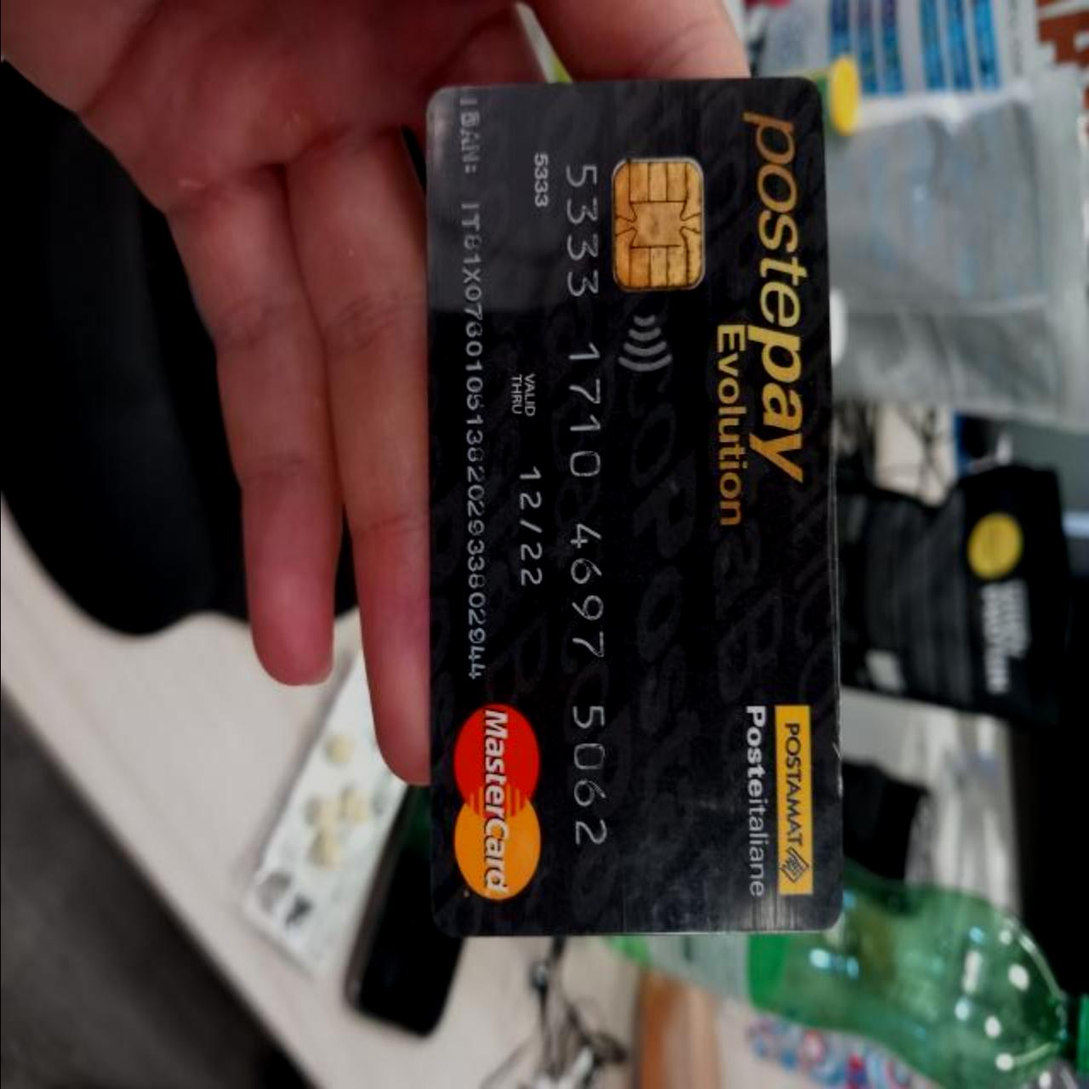credit_card: (419, 85, 837, 939)
